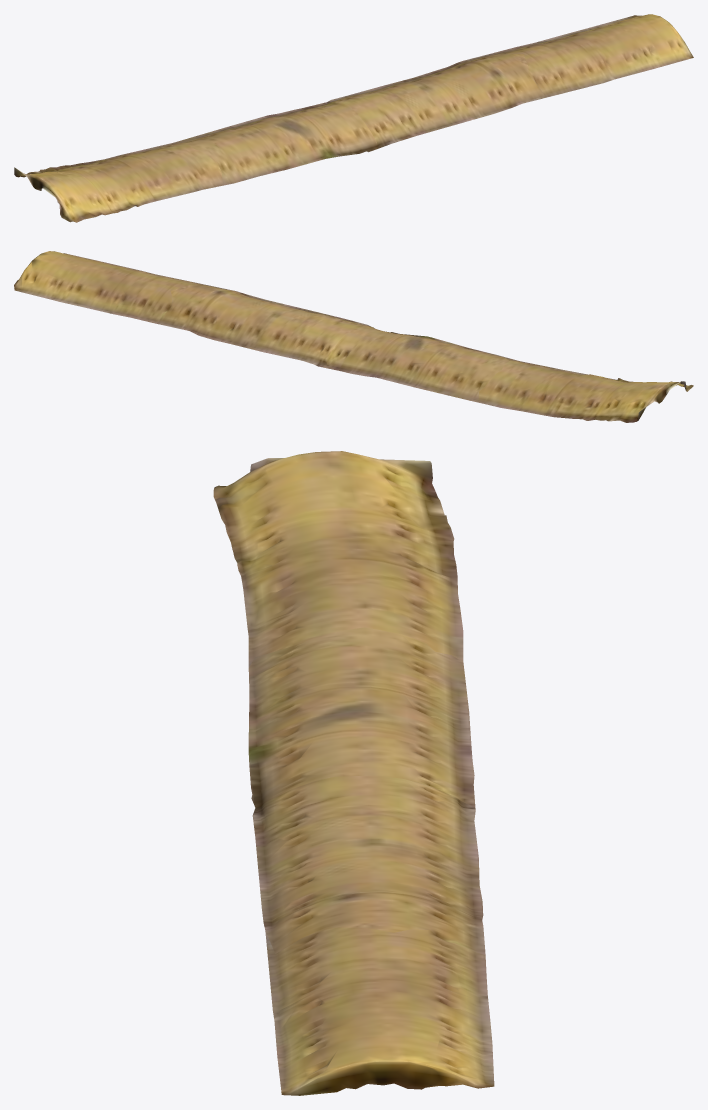
The model's file is speed_bump_optimised.glb.
The picture shows the model from 3 angles, top to bottom: view 1: azimuth 30°, elevation 25°; view 2: azimuth 150°, elevation 25°; view 3: azimuth 270°, elevation 25°; orthographic projection. The views are drawn at different scales.
Parts seen in each view (by area): view 1: part0; view 2: part0; view 3: part0.
Boxes of the visible parts, x1=… form: part0: x1=14, y1=14, x2=693, y2=222; part0: x1=14, y1=251, x2=693, y2=422; part0: x1=213, y1=451, x2=494, y2=1095.
Size of the model in its own units: 2 by 0.0953 by 0.3949.
1 material, 1 textured.
